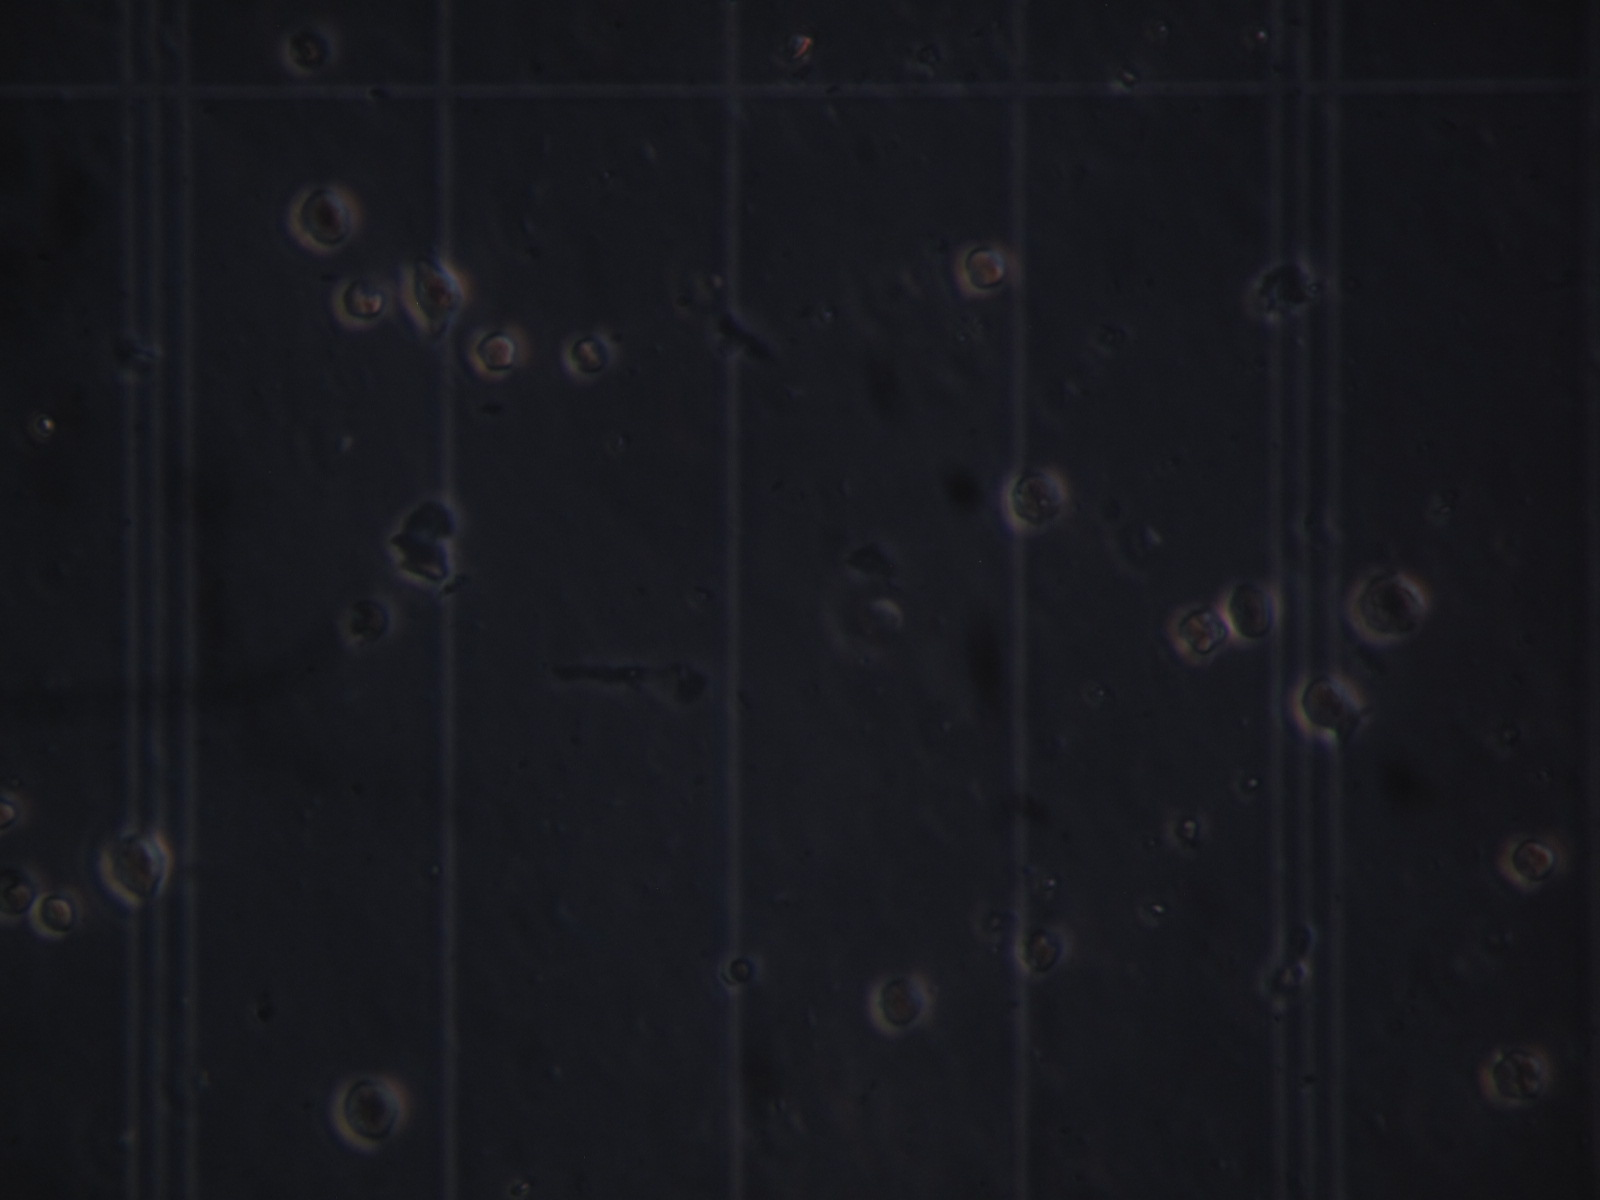hemo: (1347, 563, 1429, 645), (94, 826, 173, 908), (334, 1074, 407, 1151), (287, 182, 362, 255), (1296, 671, 1366, 740), (999, 466, 1071, 532), (1222, 579, 1288, 649), (404, 255, 469, 326), (1482, 1046, 1551, 1109), (1247, 256, 1313, 320), (876, 969, 934, 1037), (1170, 603, 1232, 664), (469, 321, 527, 379), (1500, 834, 1557, 890), (564, 326, 617, 386), (282, 21, 339, 76), (330, 280, 391, 330), (1019, 924, 1073, 979), (960, 242, 1012, 297), (343, 595, 396, 647), (26, 890, 77, 940)
